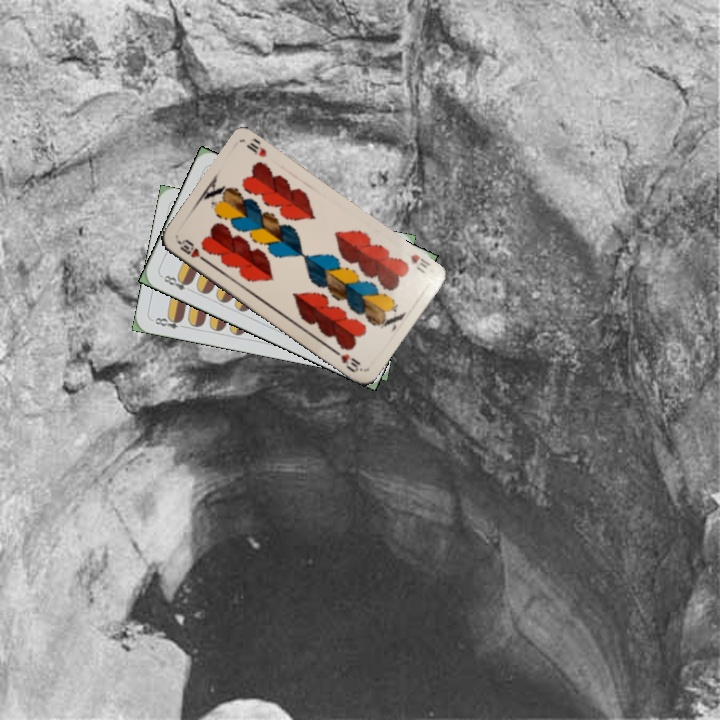E8: (157, 271, 195, 295), (151, 312, 189, 331)
H10: (174, 235, 209, 265), (406, 250, 433, 276)
